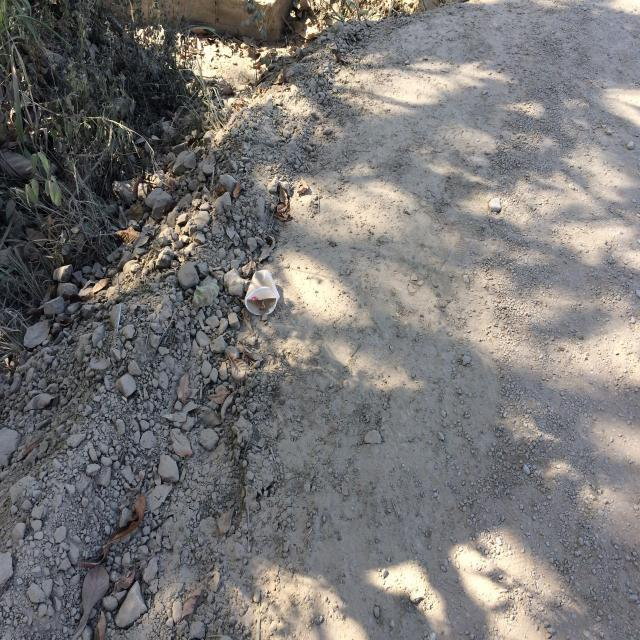Disposable plastic cup: (245, 270, 279, 316)
Unlabeled litter: (114, 304, 121, 332)
